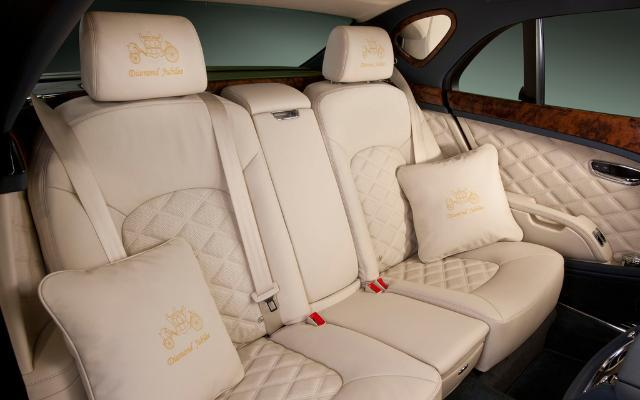Seatbelt: (199, 90, 277, 340), (29, 91, 129, 263), (392, 71, 422, 163)
